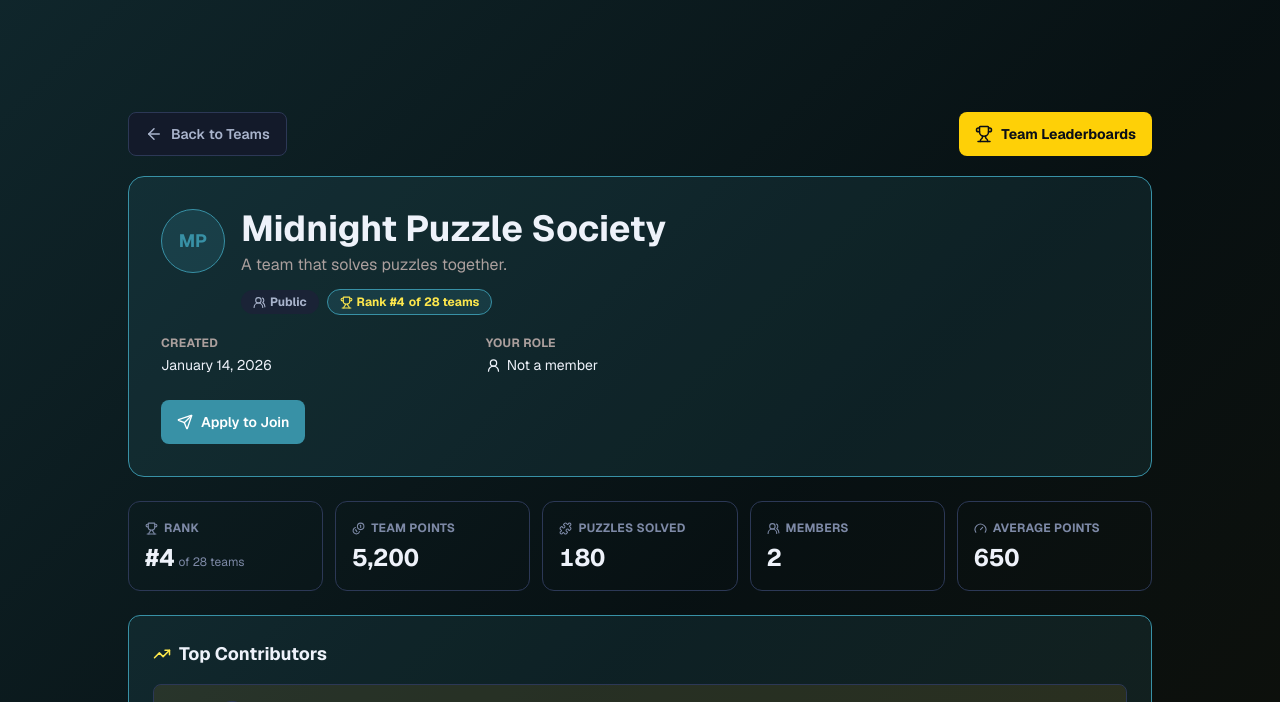
it: Team Detail page — action deck and theme picker (Pass 16B.1) › 81. apply failure resets the button state and preserves exact fallback copy
The width and height of the screenshot is (1280, 702).
Click the button "Apply to Join": (233, 422) x1=161 y1=400 x2=306 y2=444
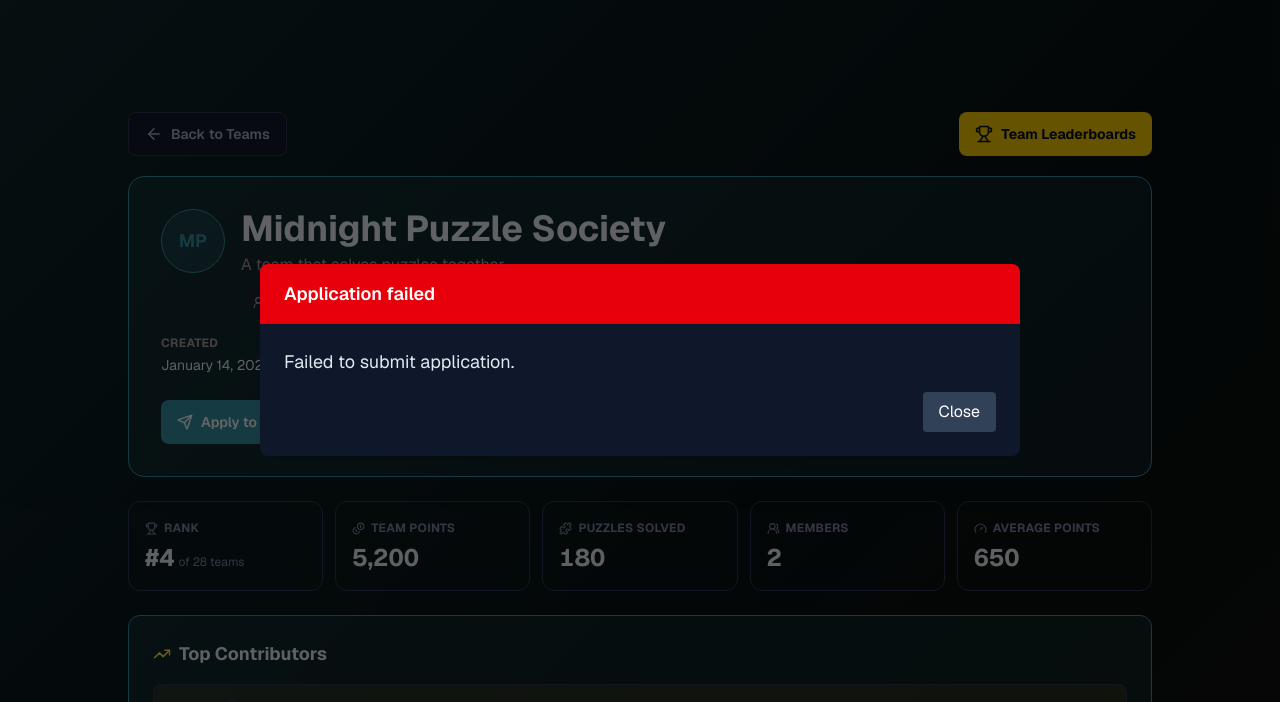
expect the heading "Application failed" is shown: met, box x1=284 y1=282 x2=435 y2=305
expect the text "Failed to submit application." is shown: met, box x1=284 y1=350 x2=514 y2=373
